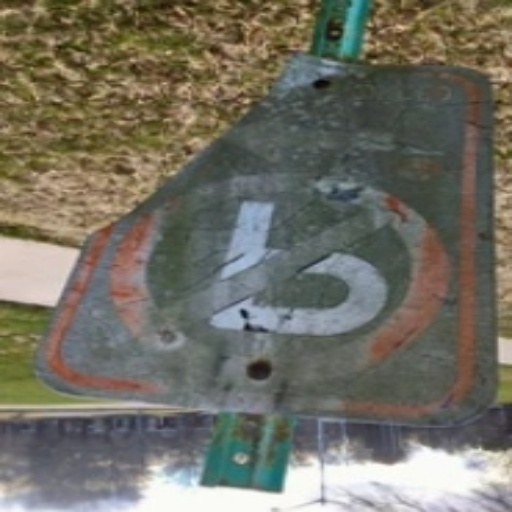No parking: (111, 155, 450, 385)
